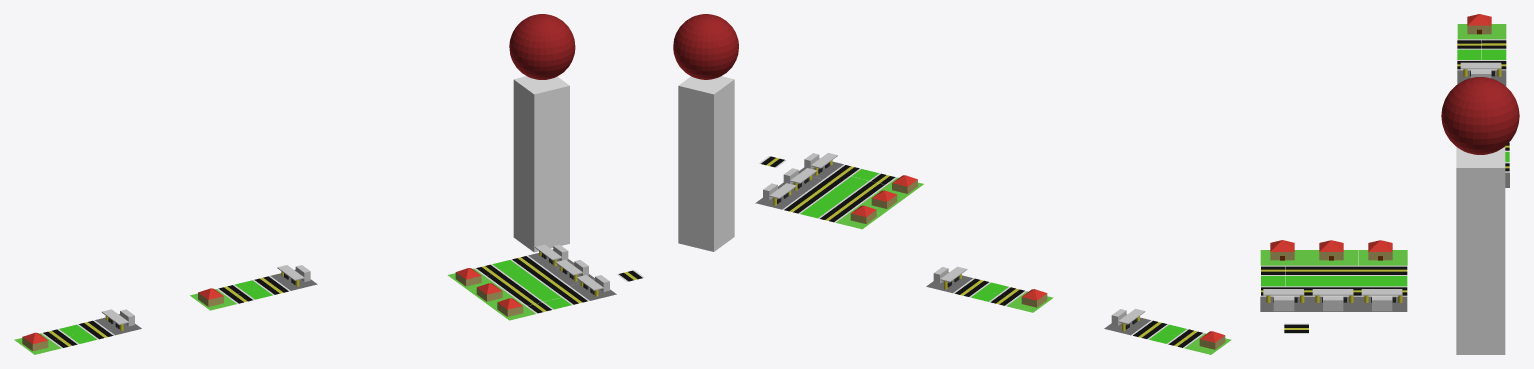
The model's file is Mock city.fbx.
3 renders of one model, left to right at view 1: azimuth 30°, elevation 25°; view 2: azimuth 150°, elevation 25°; view 3: azimuth 270°, elevation 25°, orthographic. The views are drawn at different scales.
Parts seen in each view (by area): view 1: Skyscraper, Sphere, Gas Station.002, Gas Station.001, Gas Station.004, Gas Station.003, Gas Station, House.001, House.002, House.004, House.003, House; view 2: Skyscraper, Sphere, Gas Station.001, Gas Station.002, Gas Station.003, Gas Station, Gas Station.004, House.001, House.003, House.004, House, House.002; view 3: Skyscraper, Sphere, Gas Station, Gas Station.003, Gas Station.004, House.001, House.002, House, House.003, Gas Station.001, Road Block.003, Road Block.005 (+15 smaller).
Boxes of the visible parts, x1,y1,x2,y2 form: Skyscraper: (513,76,569,252); Sphere: (509,14,575,79); Gas Station.002: (270,265,317,290); Gas Station.001: (95,309,141,335); Gas Station.004: (570,275,616,300); Gas Station.003: (528,244,574,270); Gas Station: (549,259,594,285); House.001: (14,332,61,354); House.002: (489,298,535,320); House.004: (190,288,236,310); House.003: (447,268,494,289); House: (468,283,515,305); Skyscraper: (678,76,734,251); Sphere: (673,14,738,79); Gas Station.001: (1104,308,1150,335); Gas Station.002: (926,266,972,293); Gas Station.003: (755,183,801,209); Gas Station: (778,168,822,194); Gas Station.004: (798,153,843,179); House.001: (1184,331,1231,354); House.003: (836,205,882,229); House.004: (1007,289,1053,312); House: (857,190,903,213); House.002: (877,175,923,198); Skyscraper: (1456,147,1505,354); Sphere: (1441,77,1519,154); Gas Station: (1309,289,1358,311); Gas Station.003: (1358,289,1407,311); Gas Station.004: (1260,289,1309,311); House.001: (1457,14,1506,39); House.002: (1260,240,1309,265); House: (1309,240,1358,265); House.003: (1358,240,1407,265); Gas Station.001: (1457,62,1506,85); Road Block.003: (1457,39,1481,49); Road Block.005: (1482,39,1506,49).
Bounding box in the file's own units: 15235 × 5959 × 5297.
